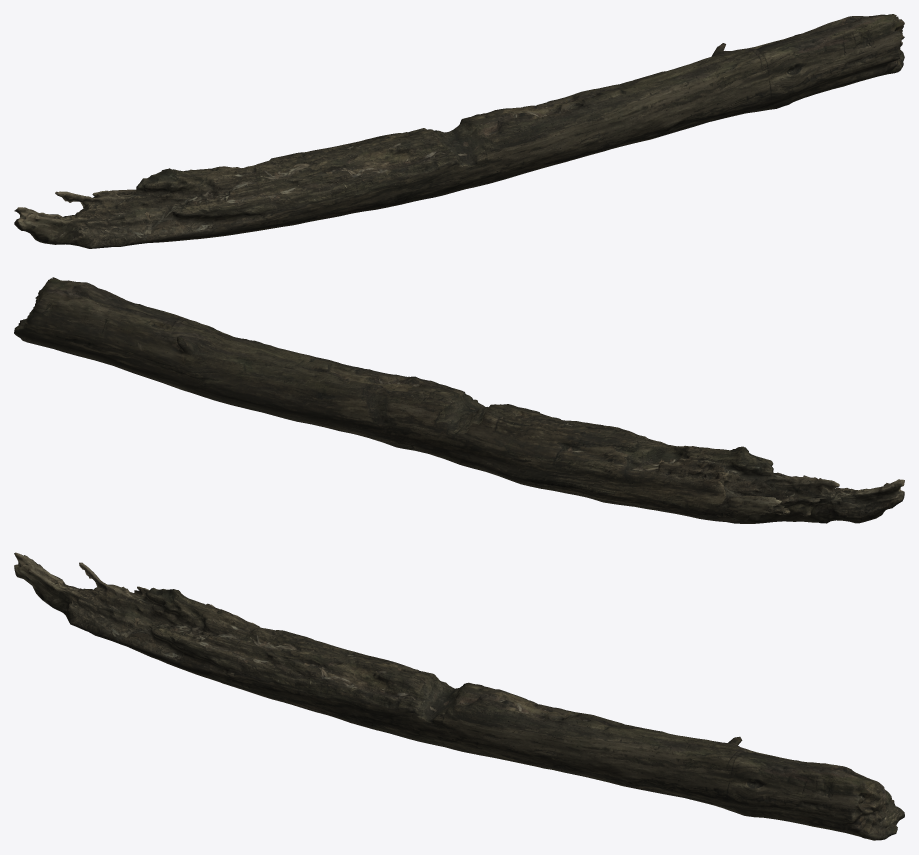
File: B_Log_01.fbx
3 views of the same model, one above another, from view 1: azimuth 30°, elevation 25°; view 2: azimuth 150°, elevation 25°; view 3: azimuth 330°, elevation 25° (orthographic).
Visible parts, largest first — view 1: B_Log_01_LOD0; view 2: B_Log_01_LOD0; view 3: B_Log_01_LOD0.
Boxes of the visible parts, <box> form: B_Log_01_LOD0: <box>14,14,904,248</box>; B_Log_01_LOD0: <box>14,277,904,523</box>; B_Log_01_LOD0: <box>14,552,904,840</box>.
Size of what is drawn, in the model's own units: 4.8 by 0.4555 by 0.4361.
